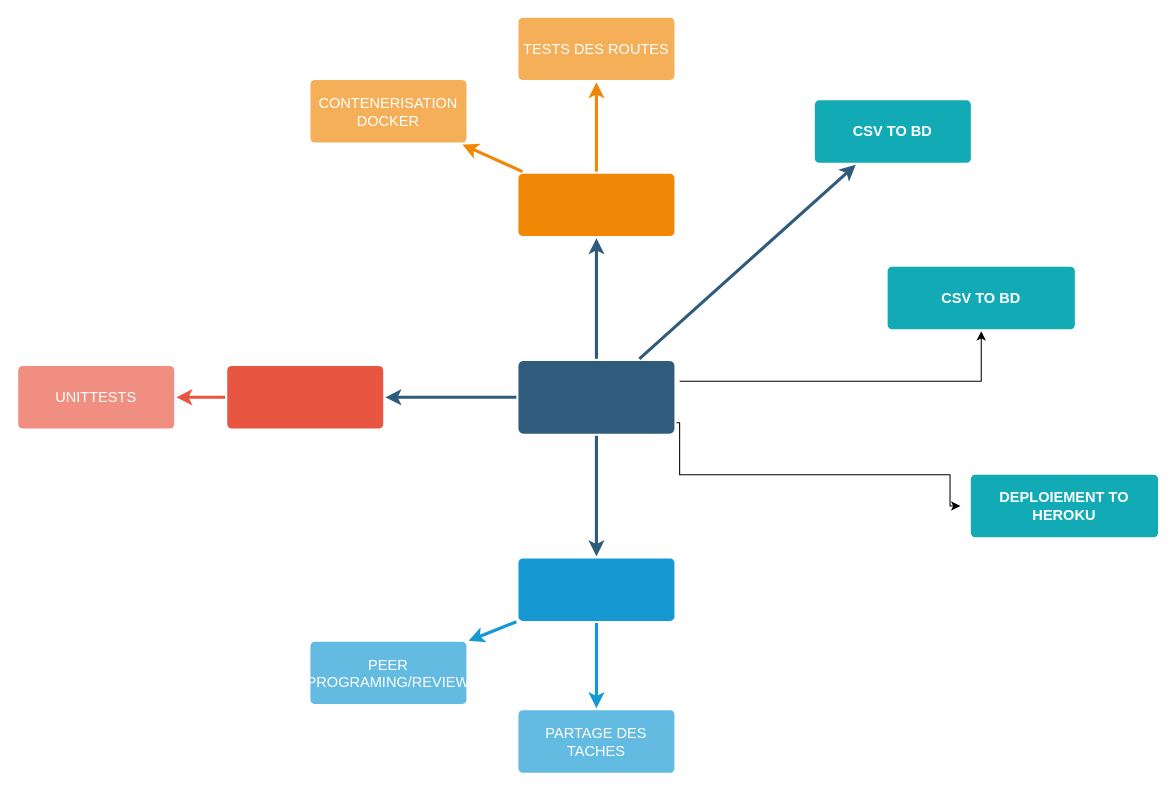
This 1175x790 diagram has some shape labels left out. The shapes that lost their labels are listed below. From the top down, each one's centre as x and y in pixels, then its label:
the point at 596,204: API FLASK
the point at 305,397: FONCTIONS DE BASE
the point at 596,396: Brief API_RESTO
the point at 596,589: Organization
